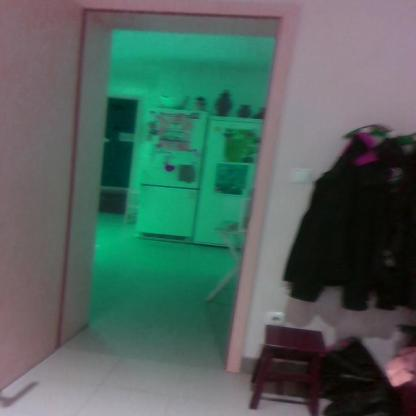door: (39, 0, 295, 374)
